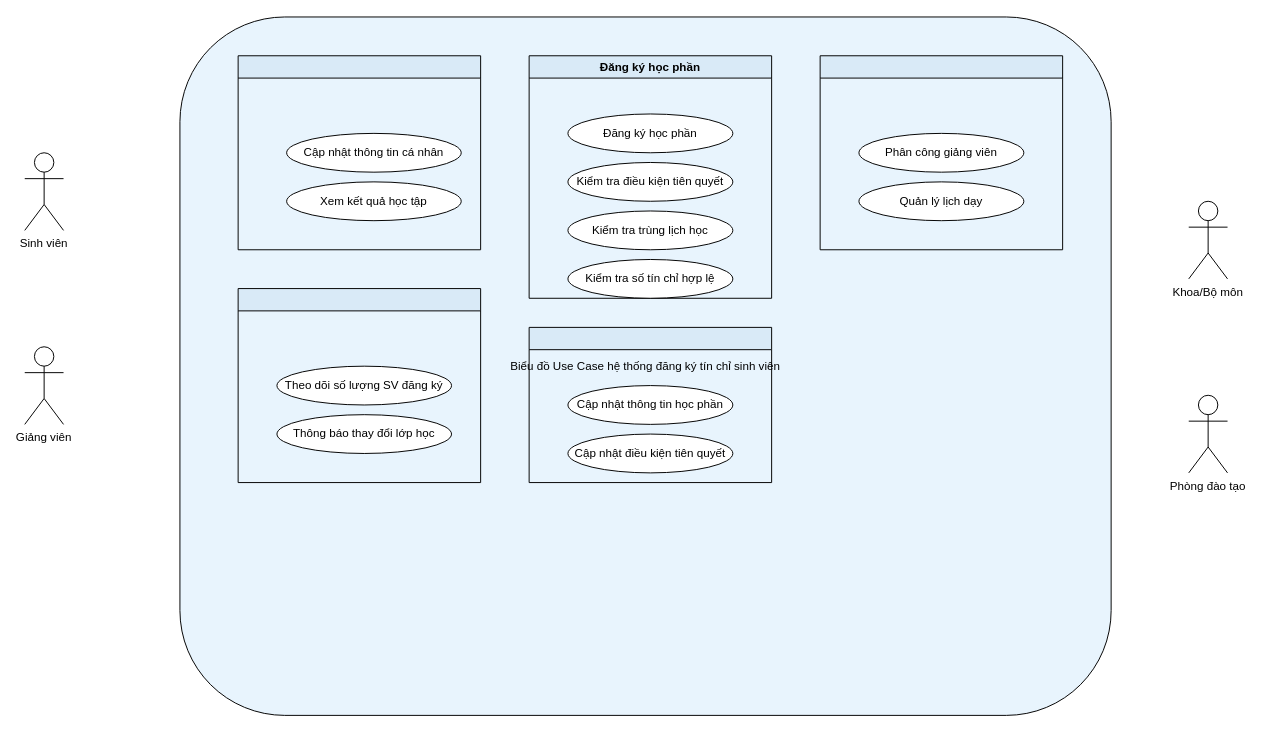
This 1264x732 diagram has some shape labels left out. The box of each missing label's shape, as (x1, y1, x2, y2) in pixels:
Quản lý giảng viên: (819, 55, 1063, 250)
Quản lý học phần: (528, 326, 772, 483)
Quản lý lớp học phần: (237, 288, 481, 483)
Quản lý sinh viên: (237, 55, 481, 250)
